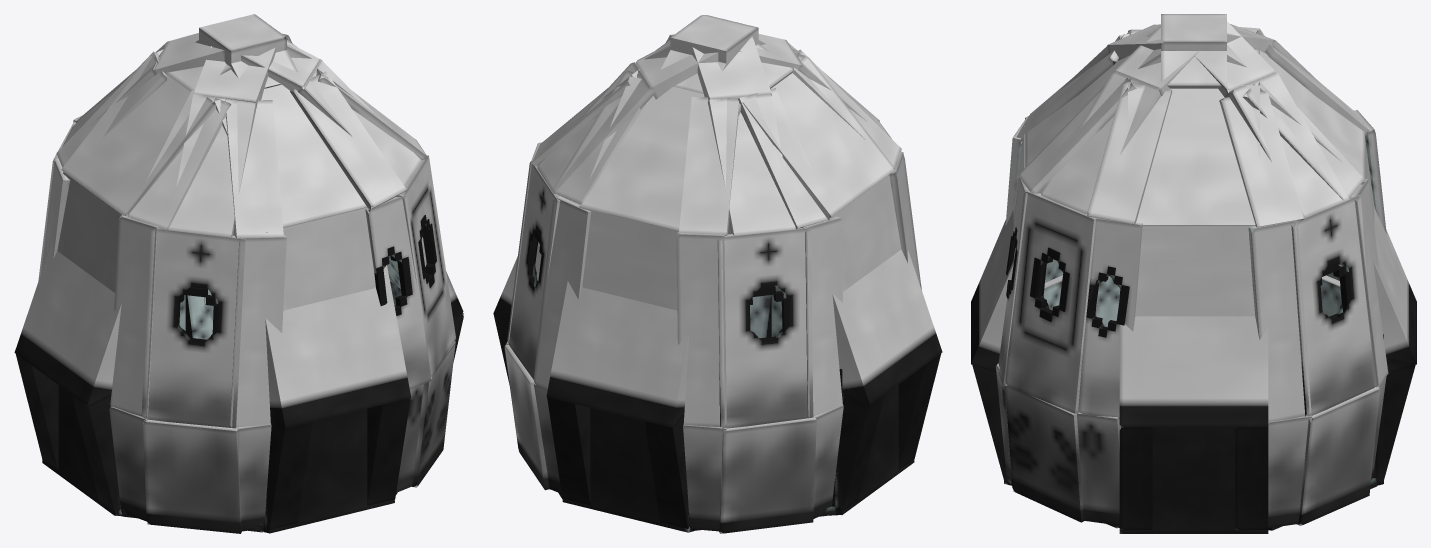
The model's file is dragon_used.obj.
3 views of the same model, side by side, from view 1: azimuth 30°, elevation 25°; view 2: azimuth 150°, elevation 25°; view 3: azimuth 270°, elevation 25° (orthographic). The views are drawn at different scales.
Visible parts, largest first — view 1: Rocket; view 2: Rocket; view 3: Rocket.
Boxes of the visible parts, x1,y1,x2,y2 form: Rocket: [14, 14, 463, 533]; Rocket: [493, 15, 942, 533]; Rocket: [971, 14, 1416, 533].
Bounding box in the file's own units: 3.38 × 3.8 × 3.38.
